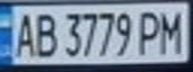3: (60, 9, 84, 57)
7: (78, 8, 100, 57), (97, 8, 118, 57)
9: (112, 8, 136, 56)
A: (9, 9, 39, 58)
B: (30, 9, 57, 58)
M: (154, 7, 187, 55)
P: (136, 7, 163, 56)
